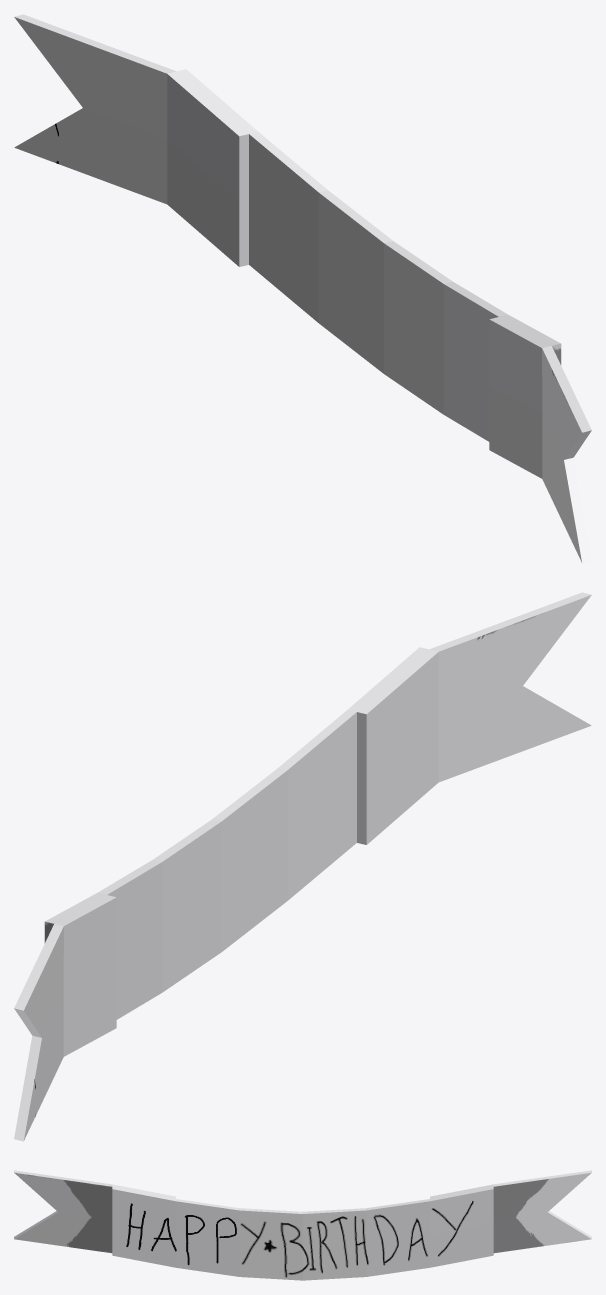
Rendered from BANNERBDay.fbx.
3 views of the same model, one above another, from view 1: azimuth 30°, elevation 25°; view 2: azimuth 150°, elevation 25°; view 3: azimuth 270°, elevation 25° (orthographic). The views are drawn at different scales.
Visible parts, largest first — view 1: Cube; view 2: Cube; view 3: Cube.
Boxes of the visible parts, <box> form: Cube: <box>14,14,591,563</box>; Cube: <box>14,592,591,1141</box>; Cube: <box>14,1170,591,1280</box>.
Bounding box in the file's own units: 153 × 260 × 1574.
